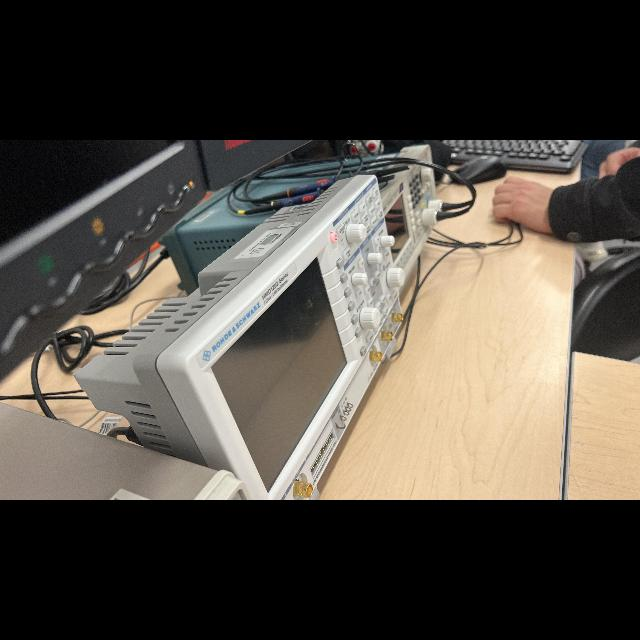Digital-Oscilloscope: (75, 175, 404, 499)
